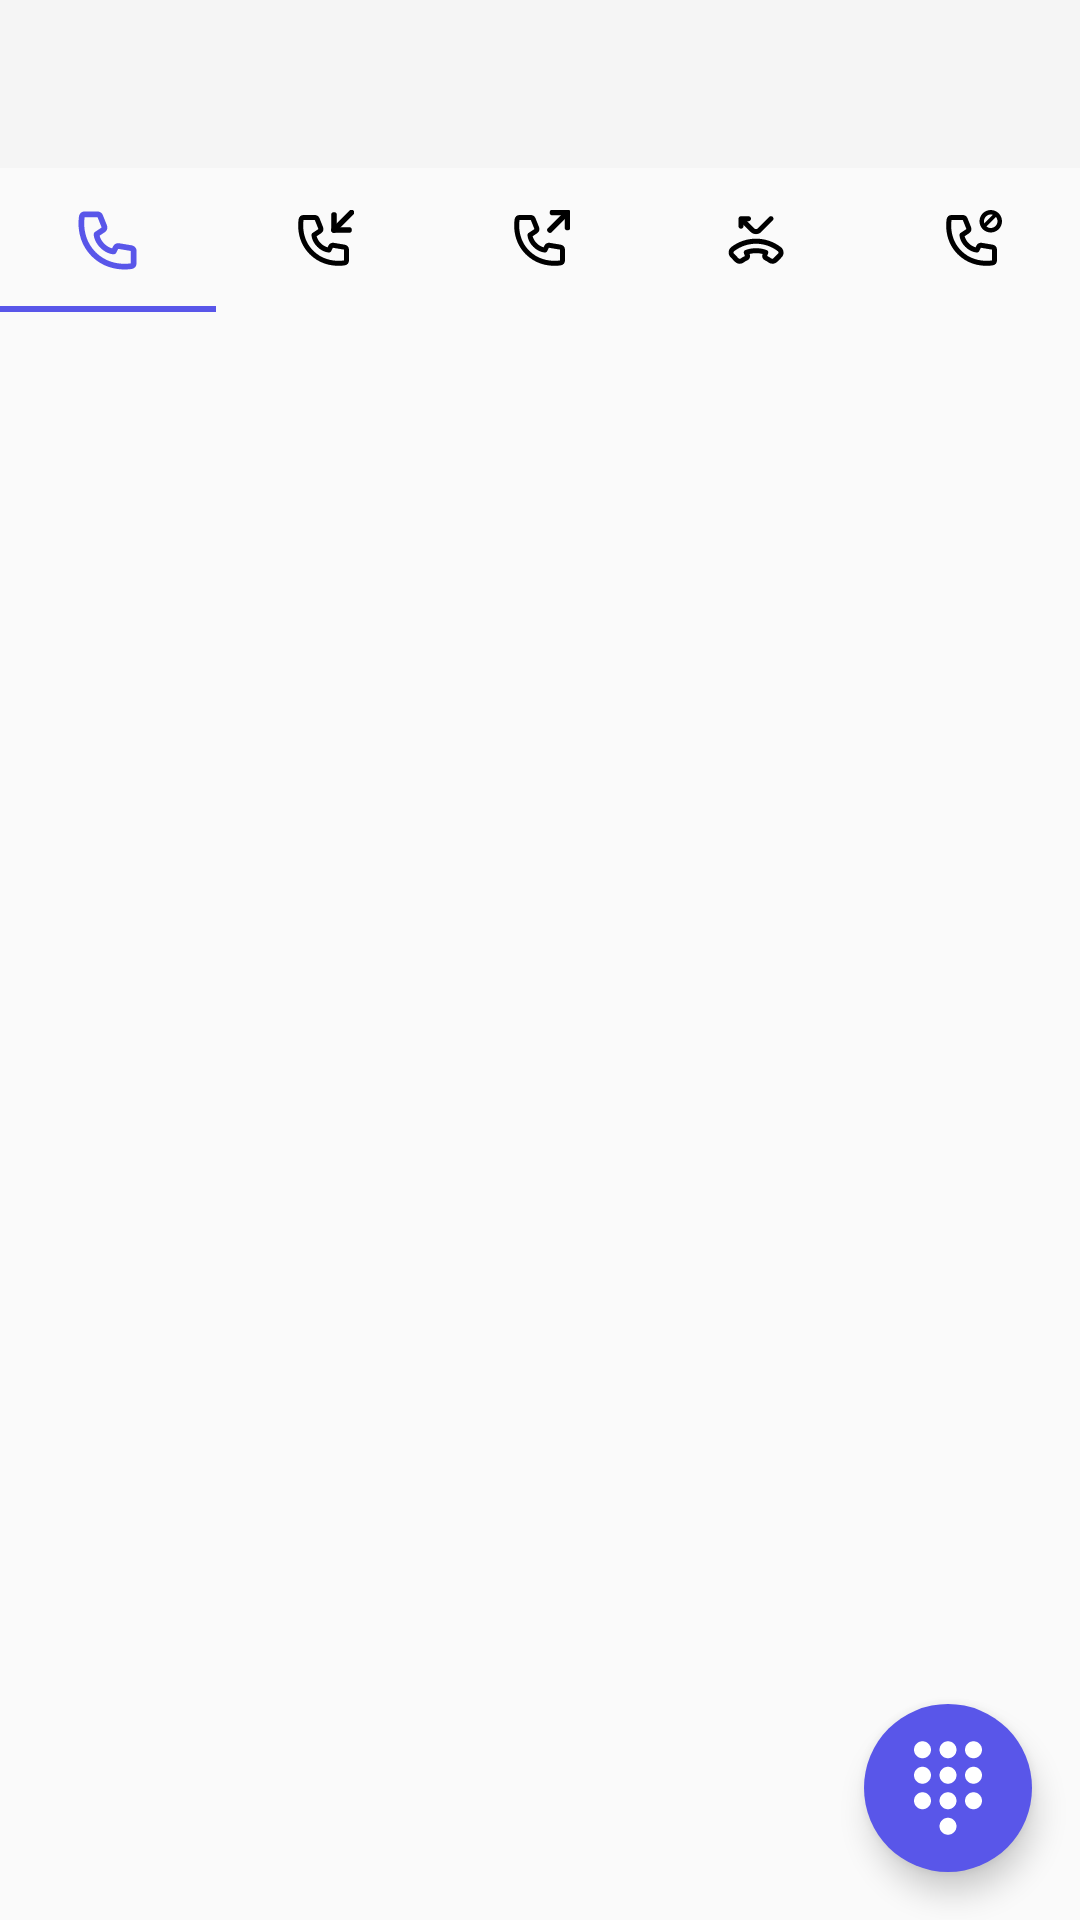

Icon click points for this 1080*1920 phone screenshot, format point (x, y):
dialpad: point (948, 1788)
